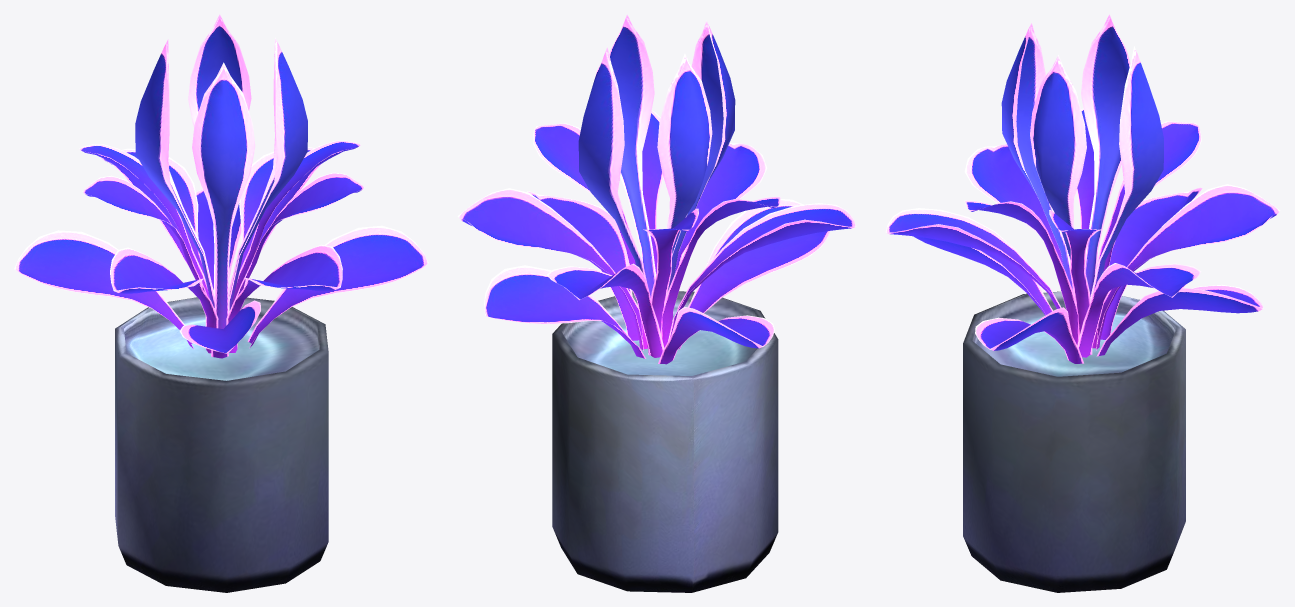
File: obj_plant02.gltf
3 renders of one model, left to right at view 1: azimuth 30°, elevation 25°; view 2: azimuth 150°, elevation 25°; view 3: azimuth 270°, elevation 25°, orthographic. The views are drawn at different scales.
Parts seen in each view (by area): view 1: obj_plant02; view 2: obj_plant02; view 3: obj_plant02.
Boxes of the visible parts, x1,y1,x2,y2 form: obj_plant02: [14, 14, 428, 592]; obj_plant02: [457, 14, 856, 592]; obj_plant02: [885, 14, 1280, 592].
Size of what is drawn, in the model's own units: 1.07 by 1.64 by 1.13.
1 material, 1 textured.
